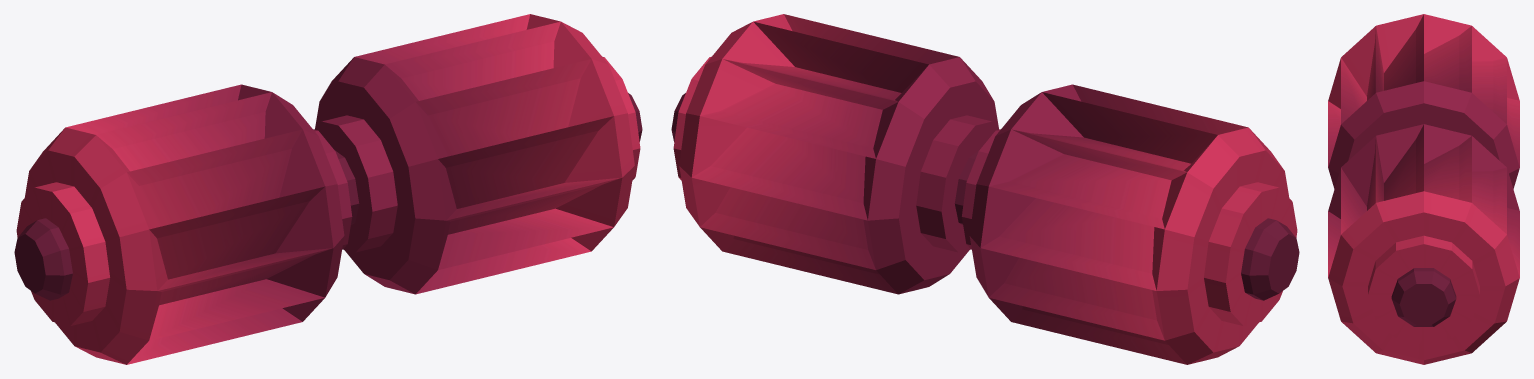
File: 4_level_knife.fbx
3 renders of one model, left to right at view 1: azimuth 30°, elevation 25°; view 2: azimuth 150°, elevation 25°; view 3: azimuth 270°, elevation 25°, orthographic. The views are drawn at different scales.
Visible parts, largest first — view 1: Cylinder4; view 2: Cylinder4; view 3: Cylinder4.
Part boxes in pixels (x1,y1,x2,y2): Cylinder4: (14,14,642,364); Cylinder4: (671,14,1299,364); Cylinder4: (1328,14,1519,364).
Size of the model in its own units: 3.9 by 1.39 by 1.39.
